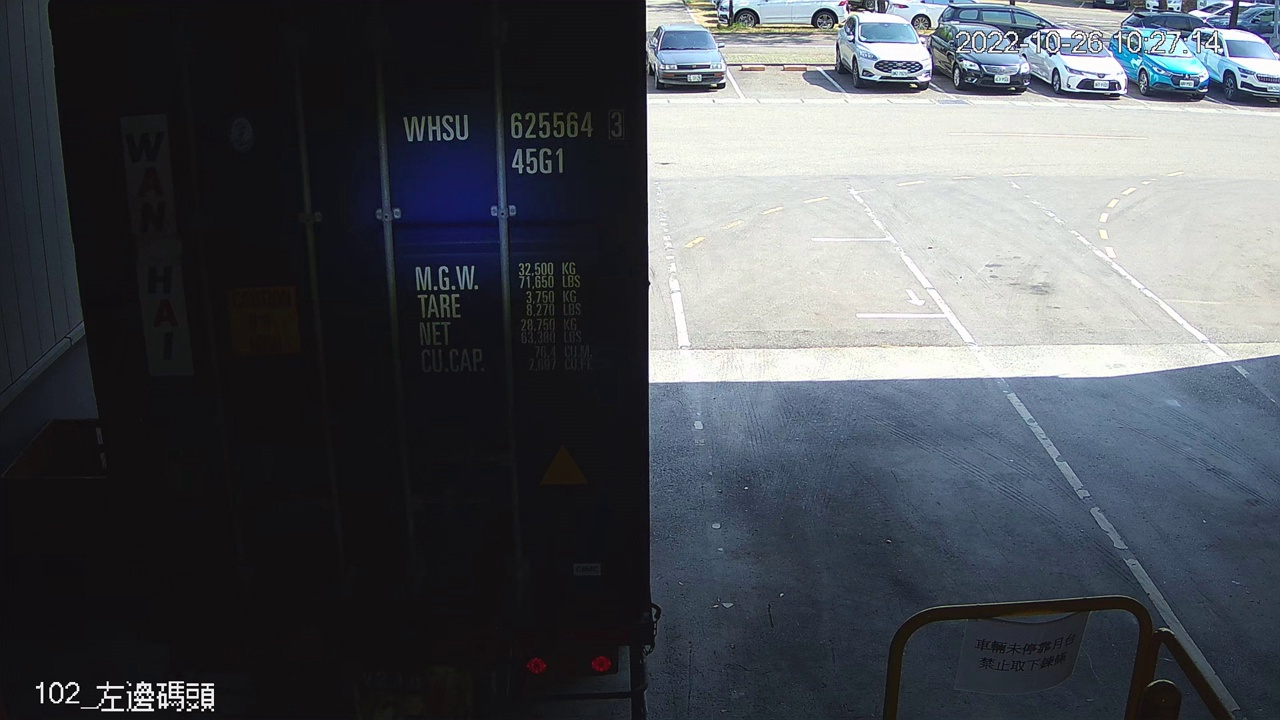container: (392, 97, 632, 185)
